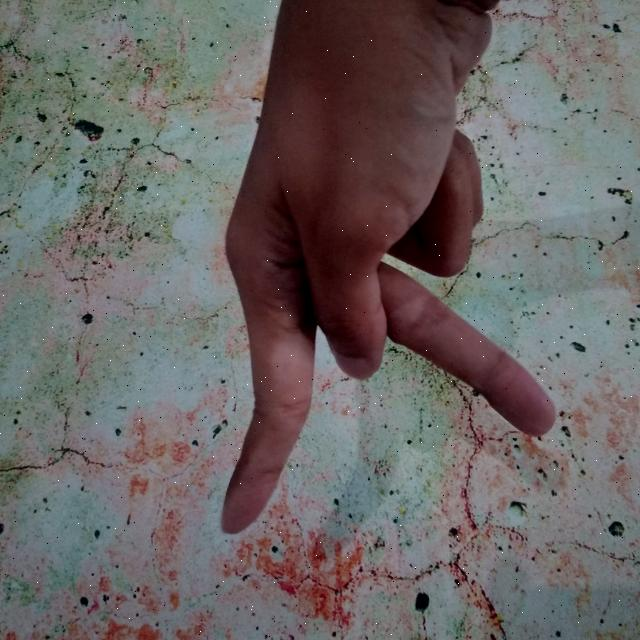P: (208, 0, 567, 543)
